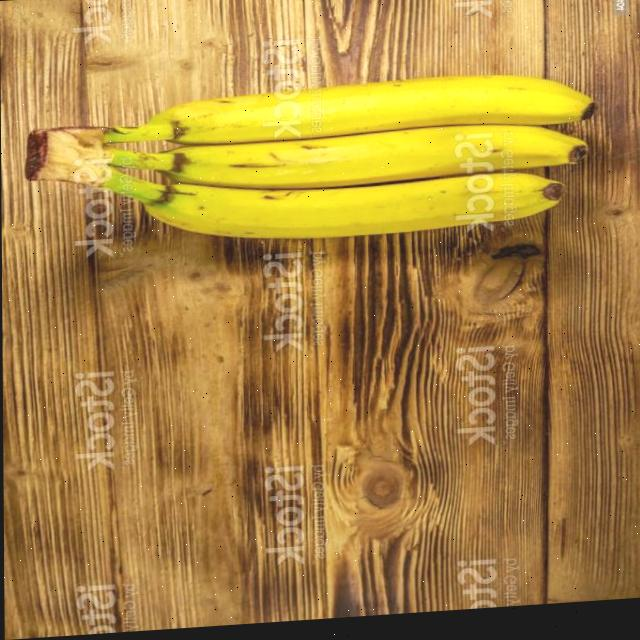banana: (14, 63, 606, 262)
